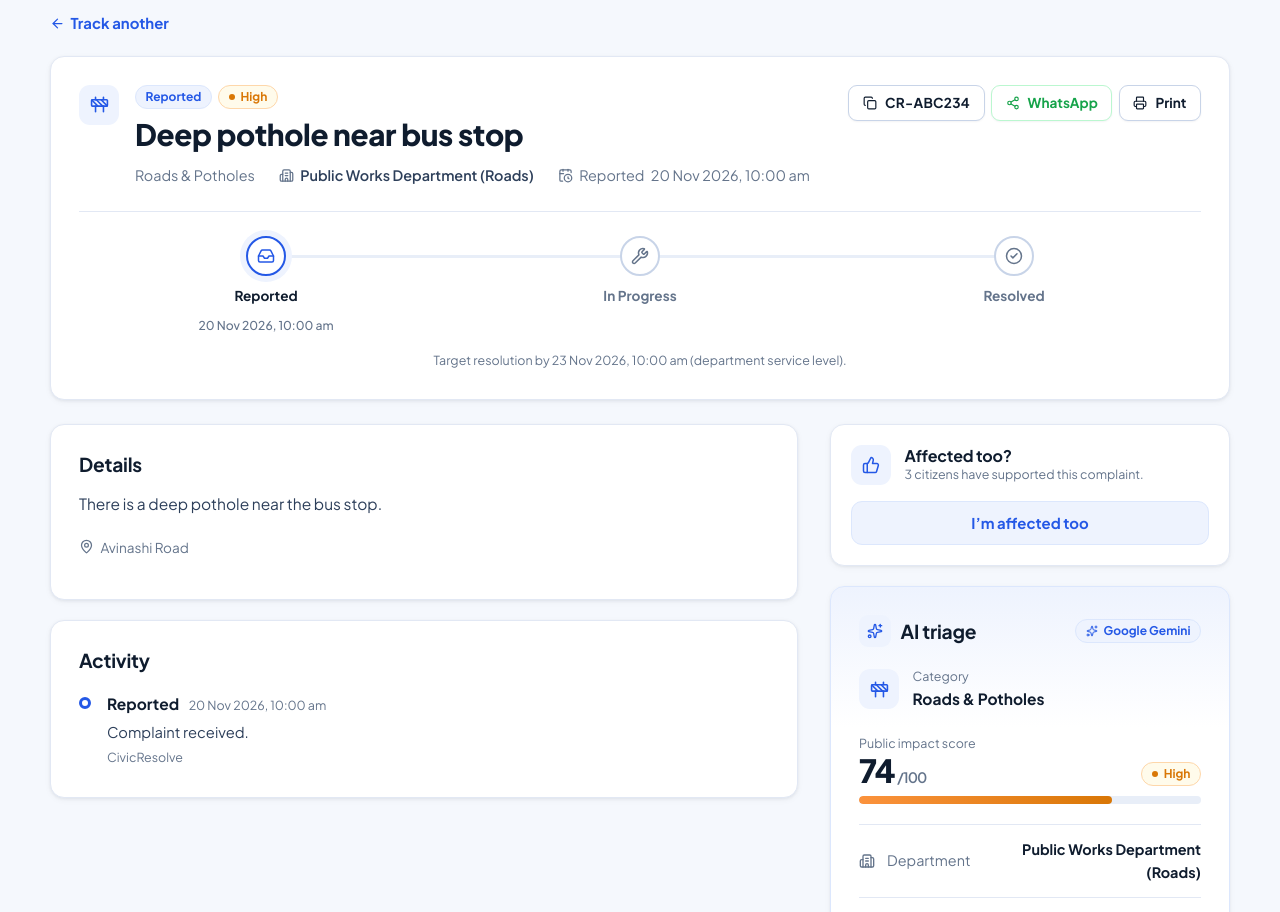
it: TrackPage › lets citizens support an open complaint
Click the button "I’m affected too" at [1030, 523], box top-left (851, 501), bottom-right (1209, 545)
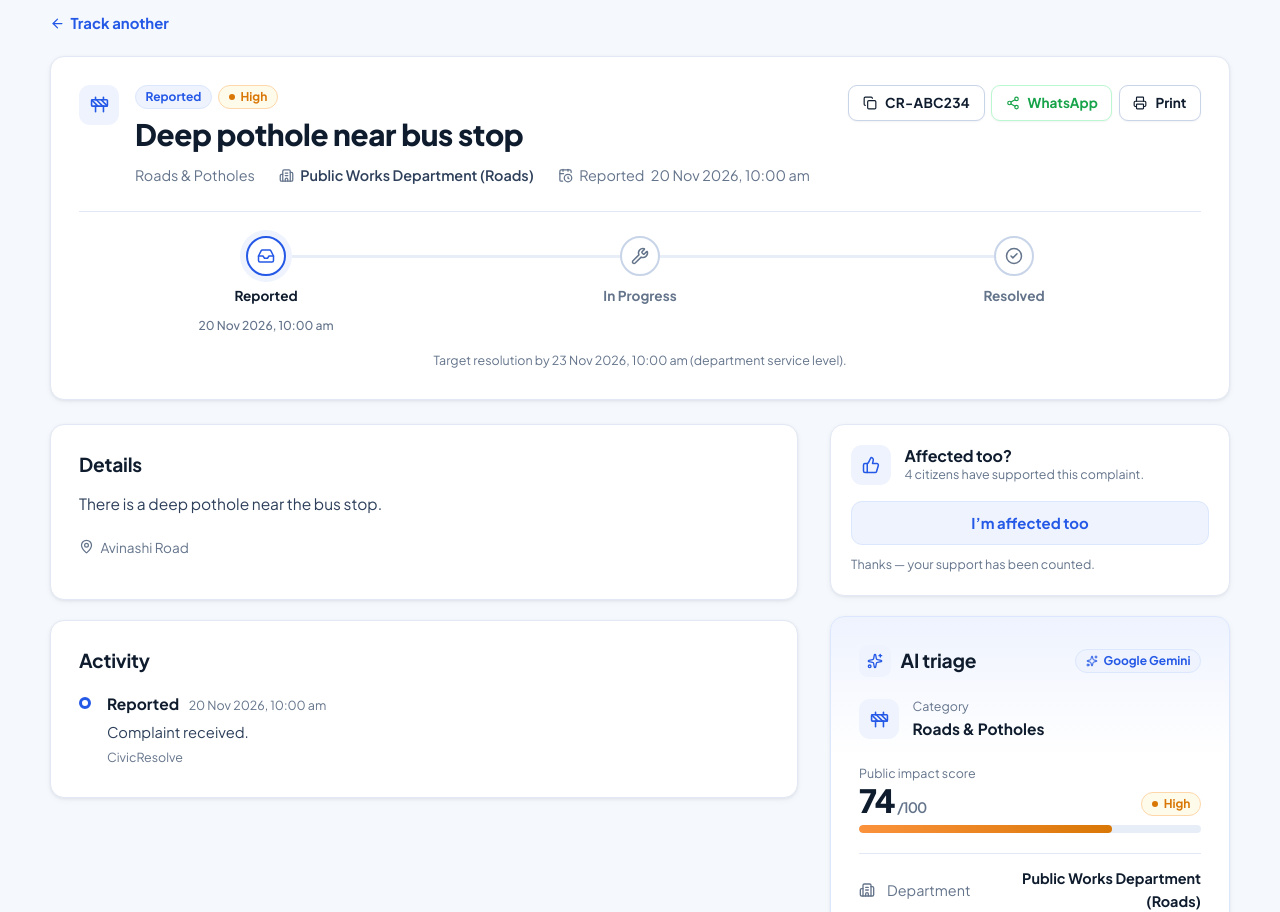
Expected: the text "4 citizens have supported this complaint." is shown, top-left (905, 465), bottom-right (1144, 485)
